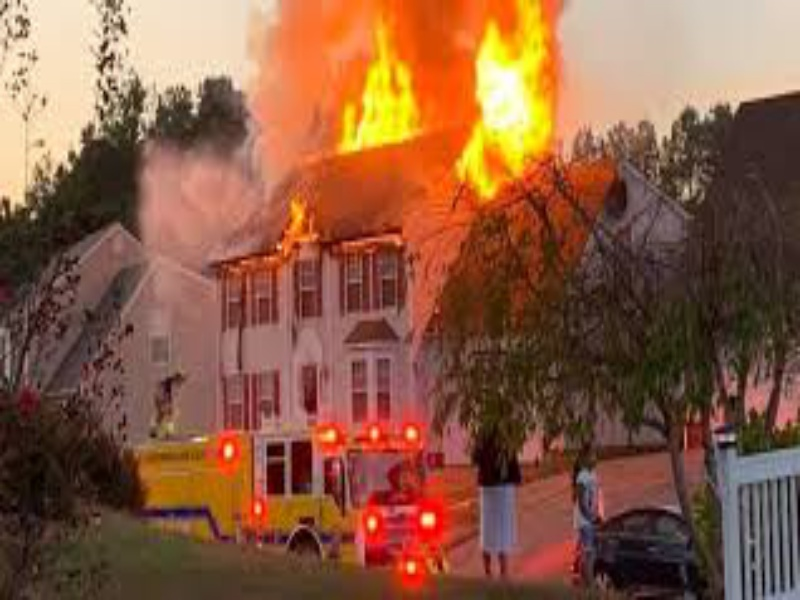fire: (459, 10, 562, 201), (318, 27, 426, 146)
